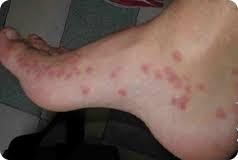Bed Bugs: (159, 64, 188, 93), (17, 49, 44, 79), (54, 55, 83, 74), (213, 105, 232, 123), (171, 95, 190, 110), (109, 67, 120, 79), (46, 69, 59, 79), (154, 70, 166, 79), (172, 50, 181, 62), (80, 85, 90, 94), (84, 64, 92, 74), (140, 64, 148, 73), (117, 88, 126, 96), (64, 72, 74, 79), (196, 83, 206, 90)
